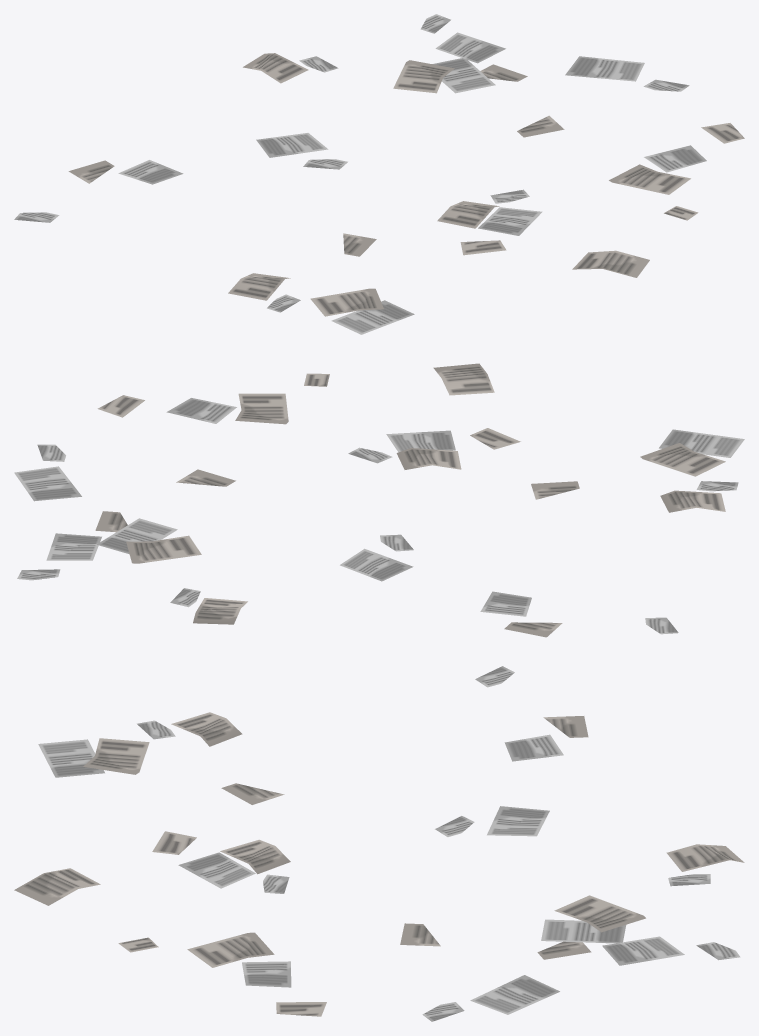
Rendered from SM_Prop_Papers_Large_01.fbx.
3 views of the same model, one above another, from view 1: azimuth 30°, elevation 25°; view 2: azimuth 150°, elevation 25°; view 3: azimuth 270°, elevation 25° (orthographic). The views are drawn at different scales.
Visible parts, largest first — view 1: SM_Prop_Papers_Large_01; view 2: SM_Prop_Papers_Large_01; view 3: SM_Prop_Papers_Large_01.
Boxes of the visible parts, <box> form: SM_Prop_Papers_Large_01: <box>14,14,744,334</box>; SM_Prop_Papers_Large_01: <box>14,363,744,637</box>; SM_Prop_Papers_Large_01: <box>14,666,744,1021</box>.
Bounding box in the file's own units: 448 × 3.45 × 389.
